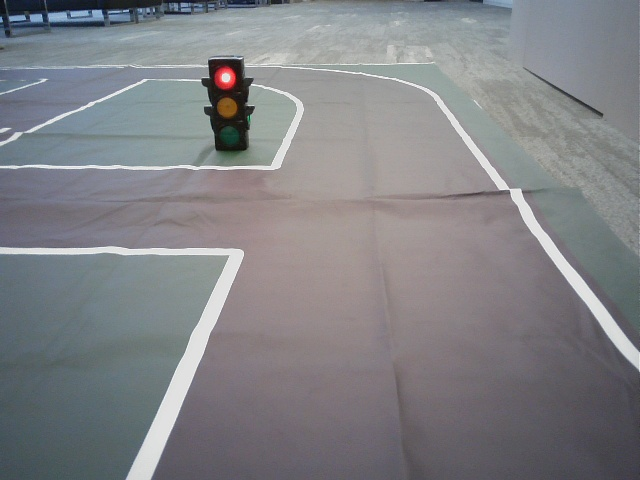red: (211, 61, 242, 147)
